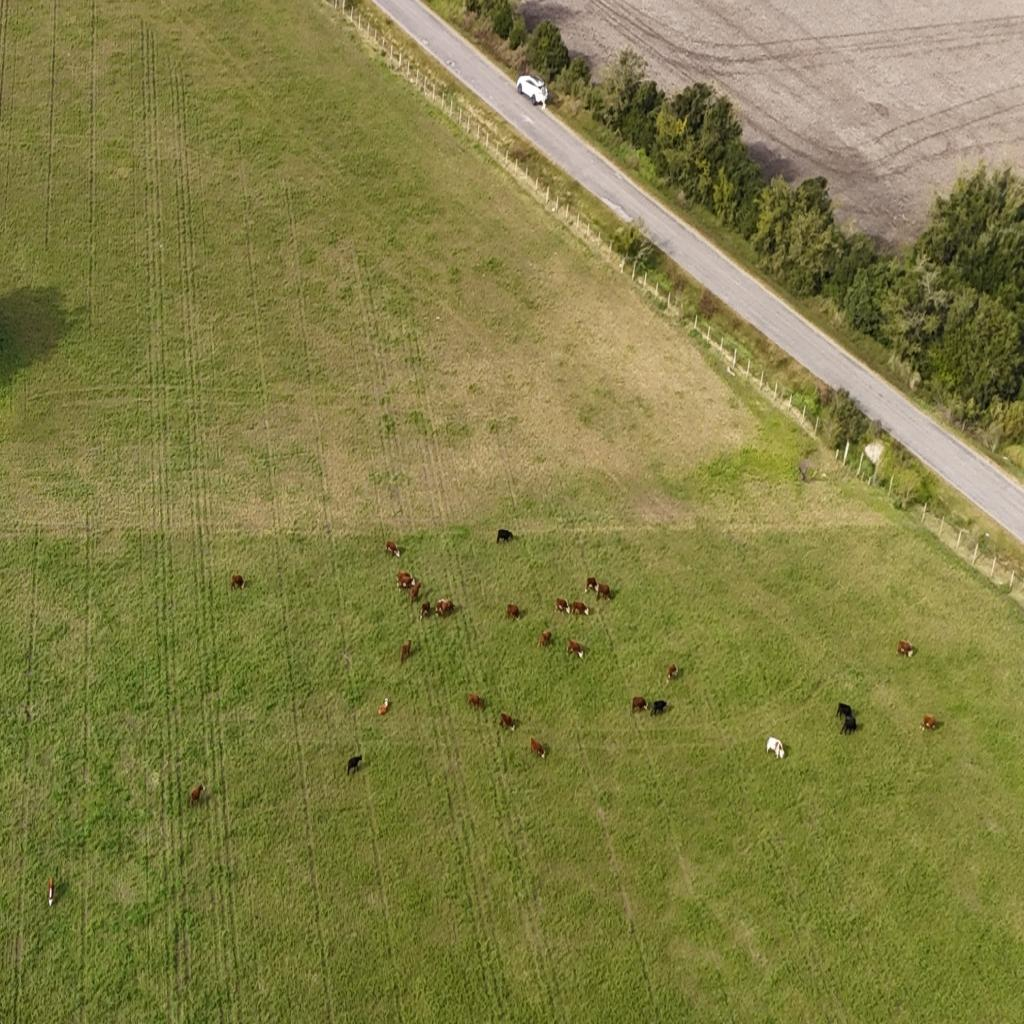cow: (839, 712, 857, 736), (766, 736, 784, 759), (396, 571, 415, 592), (530, 736, 546, 759), (567, 639, 584, 660), (570, 601, 589, 619), (190, 783, 204, 806), (499, 712, 515, 732), (385, 540, 401, 560), (596, 582, 612, 602), (347, 755, 362, 776), (631, 696, 648, 714), (897, 640, 914, 658), (921, 714, 938, 731), (410, 582, 422, 606), (651, 699, 667, 717), (555, 596, 569, 616), (441, 598, 454, 618), (497, 528, 513, 544), (837, 703, 853, 719), (400, 640, 411, 663), (585, 576, 598, 595), (506, 603, 521, 619), (539, 630, 552, 648), (378, 697, 390, 716), (48, 876, 55, 908), (666, 664, 678, 682), (420, 601, 432, 619), (468, 694, 481, 710), (231, 574, 244, 590), (430, 601, 440, 620)
